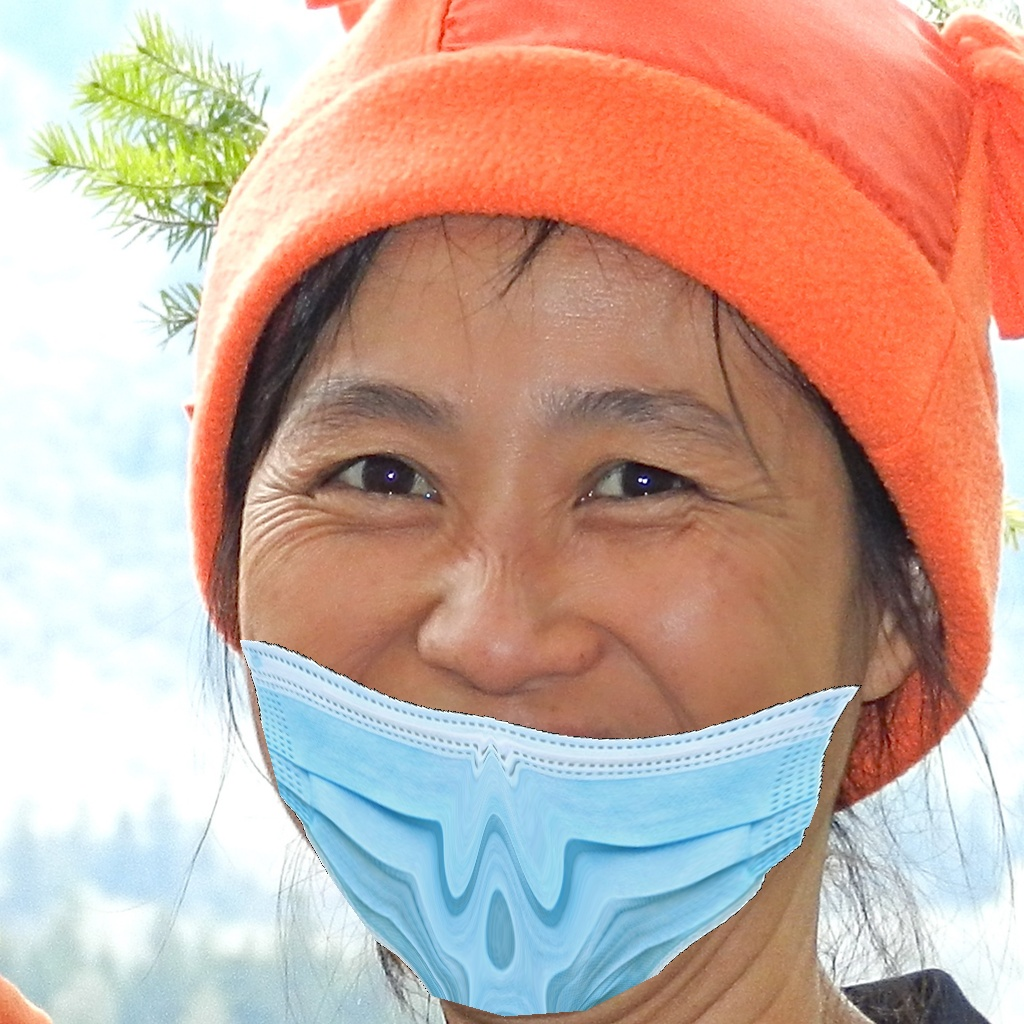mascarilla_mal_puesta: (229, 385, 822, 1024)
